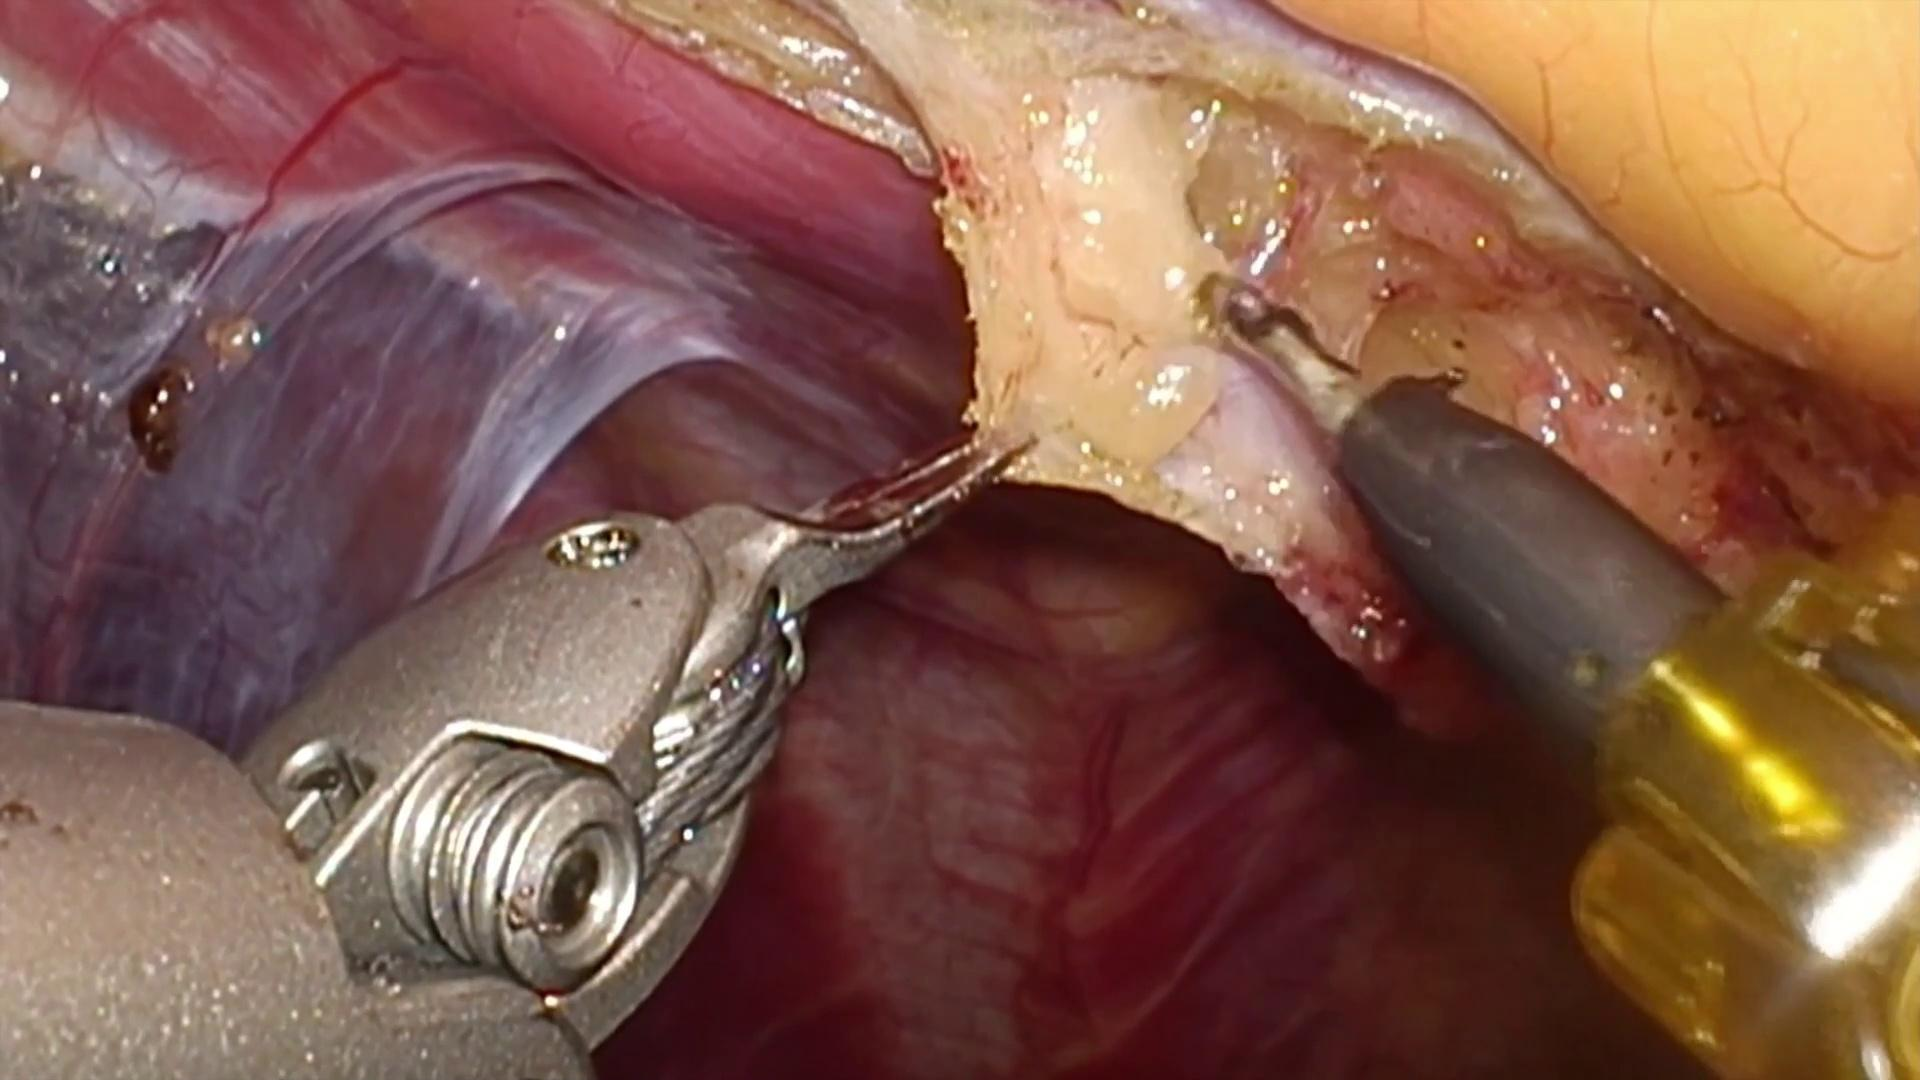Cautery_Spatula: (1200, 285, 1722, 745)
Debakey: (700, 402, 1042, 636)
